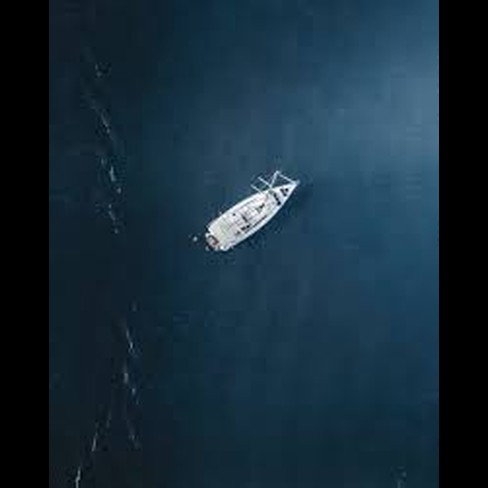boat: (191, 166, 303, 267)
